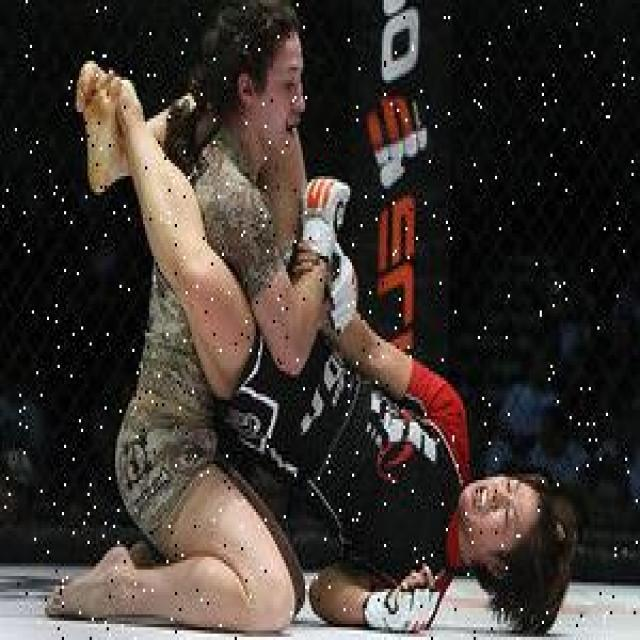fall: (211, 179, 563, 624)
